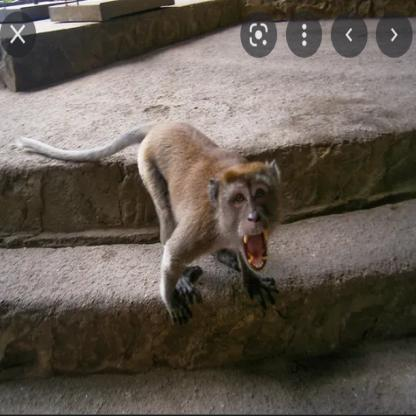monkey: (24, 114, 291, 330)
